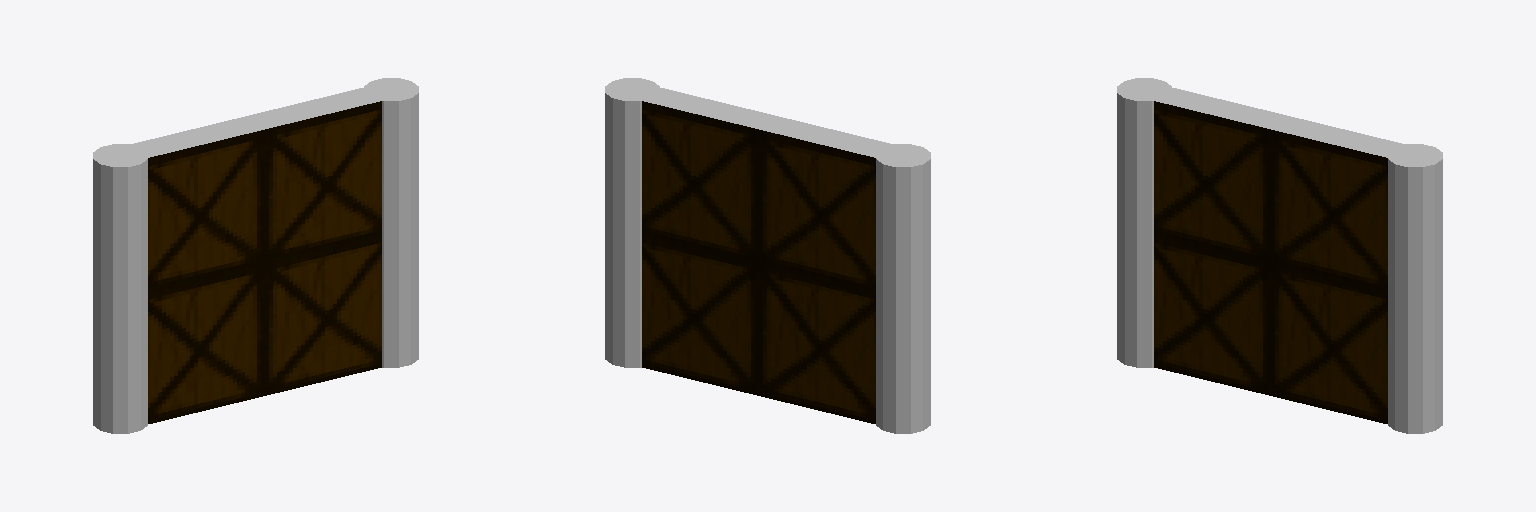
3 views of the same model, side by side, from view 1: azimuth 30°, elevation 25°; view 2: azimuth 150°, elevation 25°; view 3: azimuth 330°, elevation 25° (orthographic).
Visible parts, largest first — view 1: cuboid, cylinder; view 2: cuboid, cylinder; view 3: cuboid, cylinder.
Part boxes in pixels (left/top/right/bottom): cuboid: left=120, top=85, right=381, bottom=423; cylinder: left=93, top=78, right=418, bottom=433; cuboid: left=642, top=88, right=903, bottom=423; cylinder: left=605, top=78, right=930, bottom=433; cuboid: left=1154, top=88, right=1415, bottom=423; cylinder: left=1117, top=78, right=1442, bottom=433.
Size of the model in its own units: 2.5 by 2 by 0.375.
Materials: 2 (1 with a texture image).